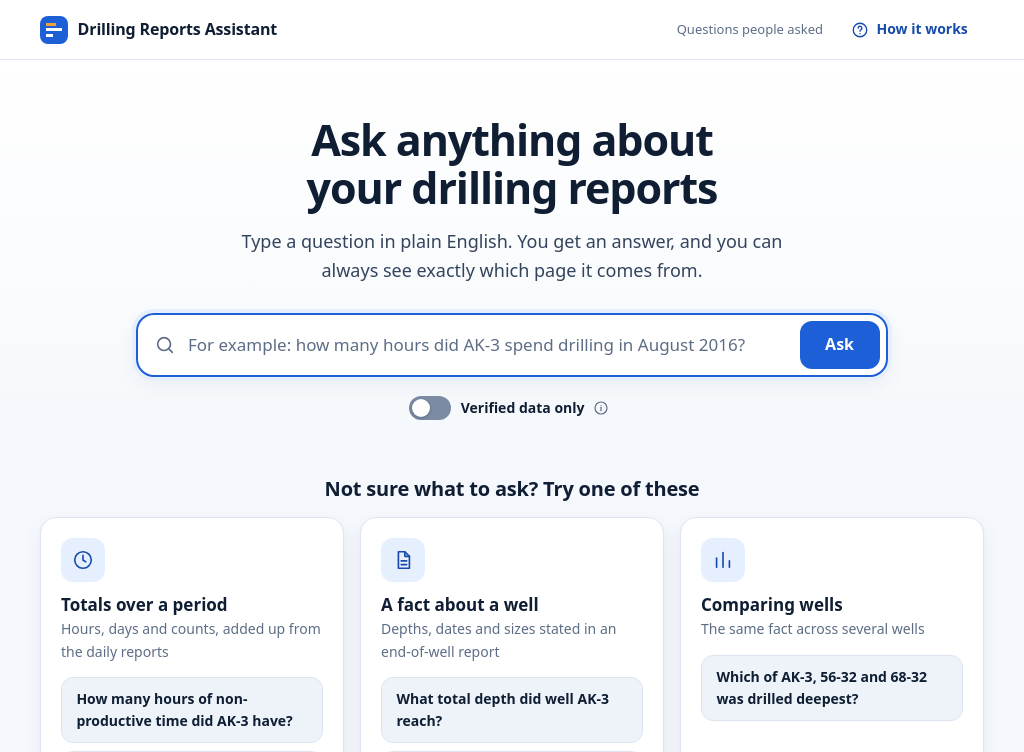
Test: explanations on hover › explains a term when its i is hovered, focused or clicked
This screenshot has width=1024, height=752.
Hover over the button named "What is verified data only?".
mouse_move(601, 408)  # box [587,394,615,422]
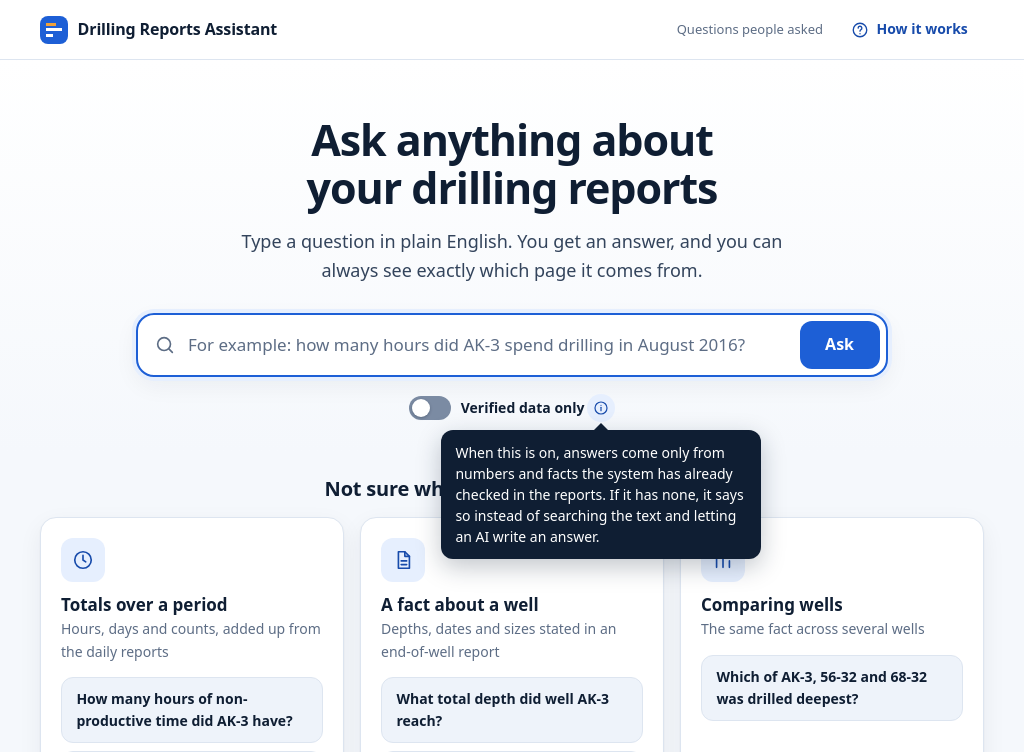
Result: the tooltip shows "already checked in the reports" at [455,444,744,546]
Move the pointer off the button named "What is verified data only?", box [587,394,615,422]
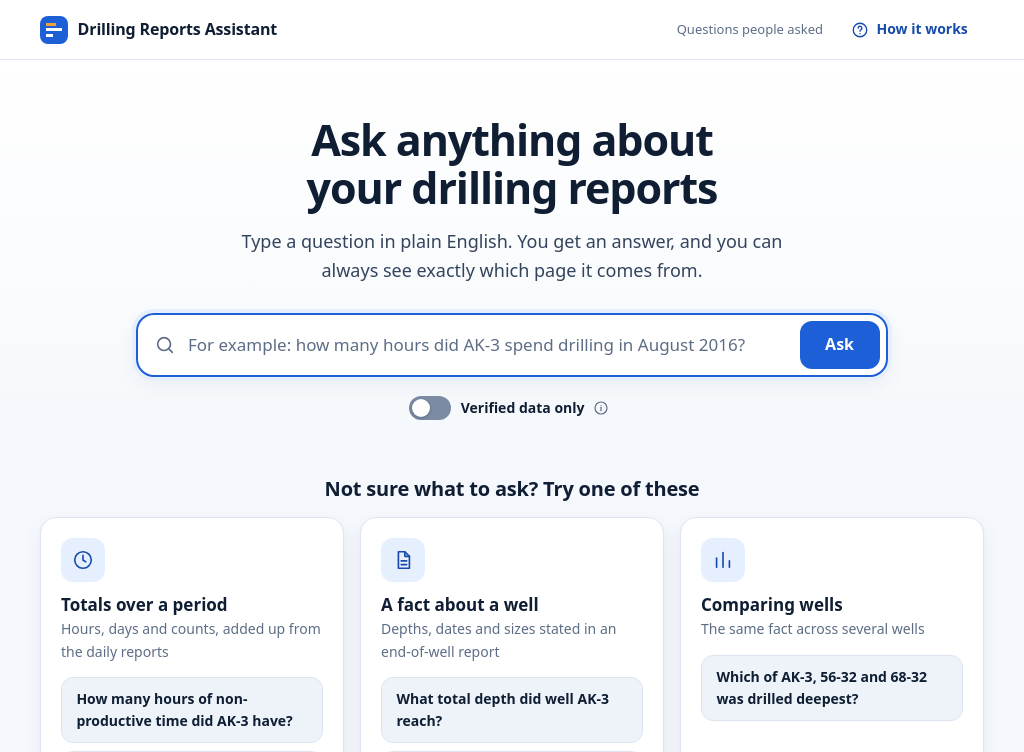
Result: the tooltip is gone
Click the button named "What is verified data only?".
click(601, 408)  # box [587,394,615,422]
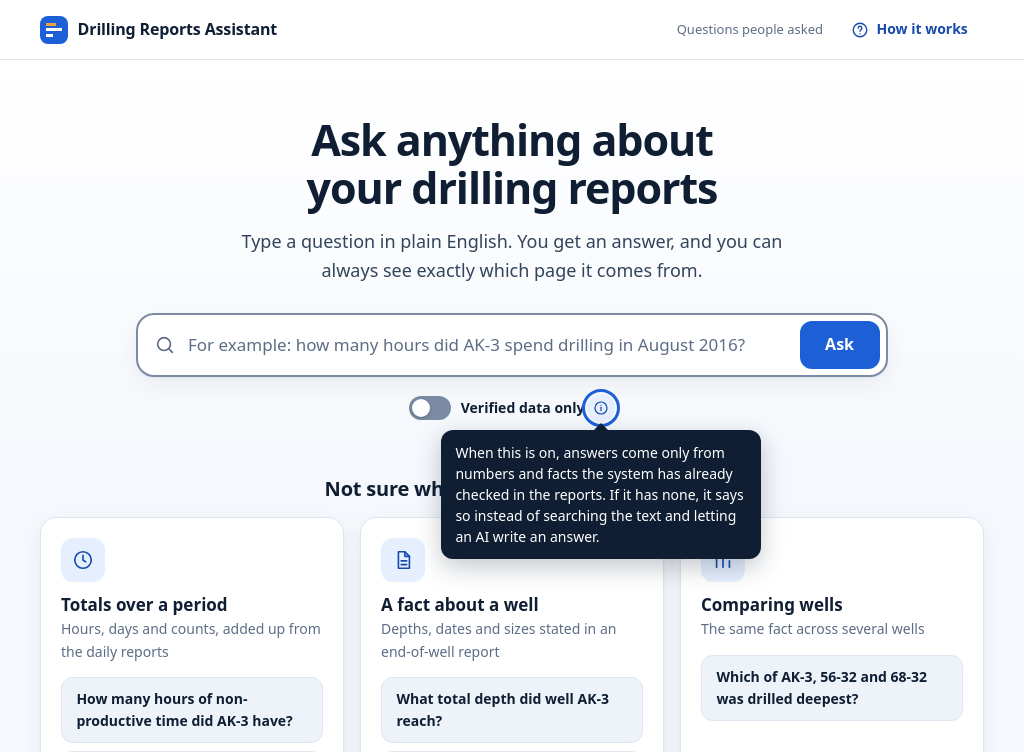
Result: the tooltip is shown at [441,430,761,560]
Press Escape
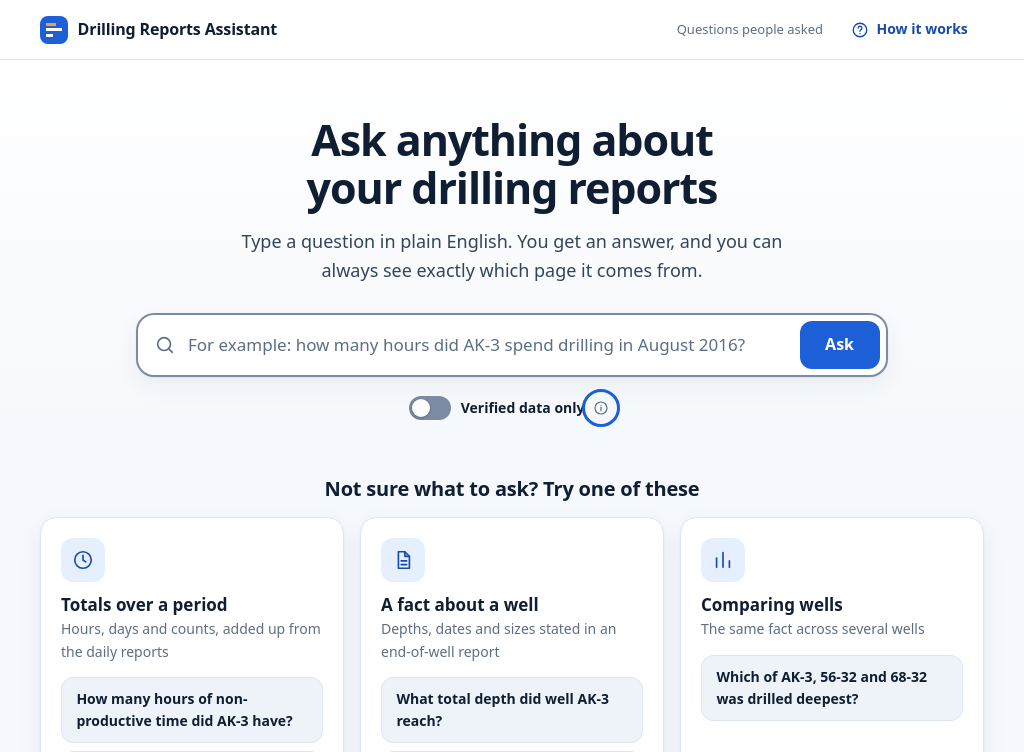
Result: the tooltip is gone
